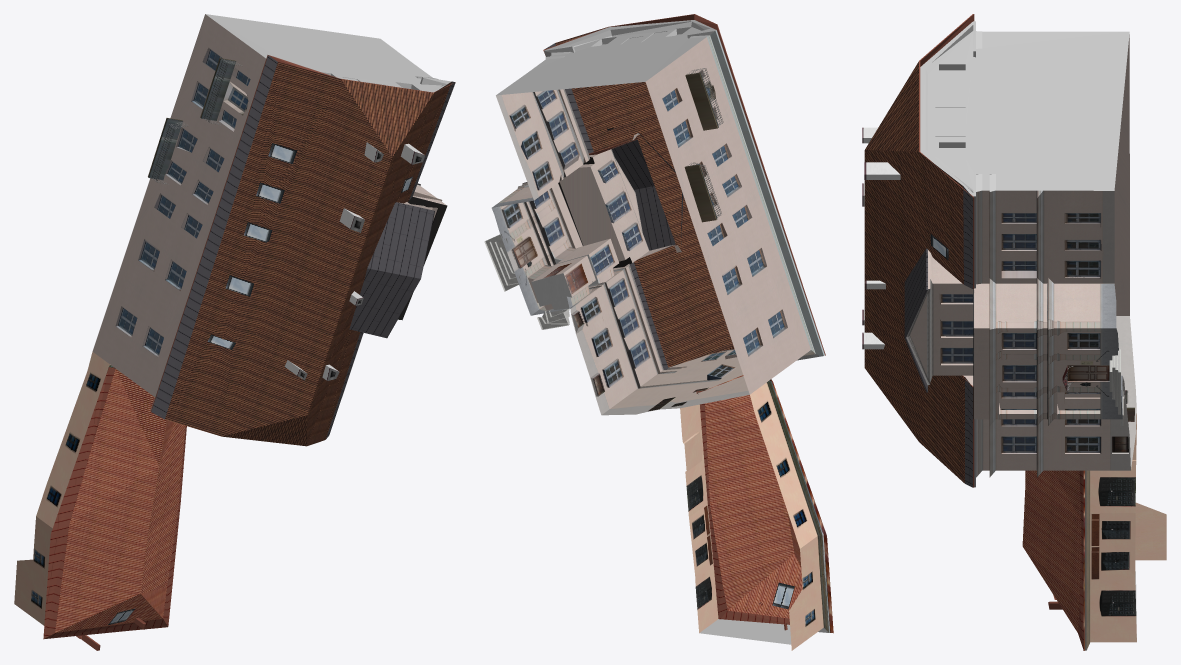
File: Toom-Kooli_13-origo.obj
The picture shows the model from 3 angles, left to right: view 1: azimuth 30°, elevation 25°; view 2: azimuth 150°, elevation 25°; view 3: azimuth 270°, elevation 25°; orthographic projection. The views are drawn at different scales.
Parts seen in each view (by area): view 1: Toom_Kooli_13; view 2: Toom_Kooli_13; view 3: Toom_Kooli_13.
Boxes of the visible parts, x1,y1,x2,y2 form: Toom_Kooli_13: (14,14,455,650); Toom_Kooli_13: (484,14,833,650); Toom_Kooli_13: (862,14,1166,650).
Size of the model in its own units: 31.19 by 49 by 20.36.
